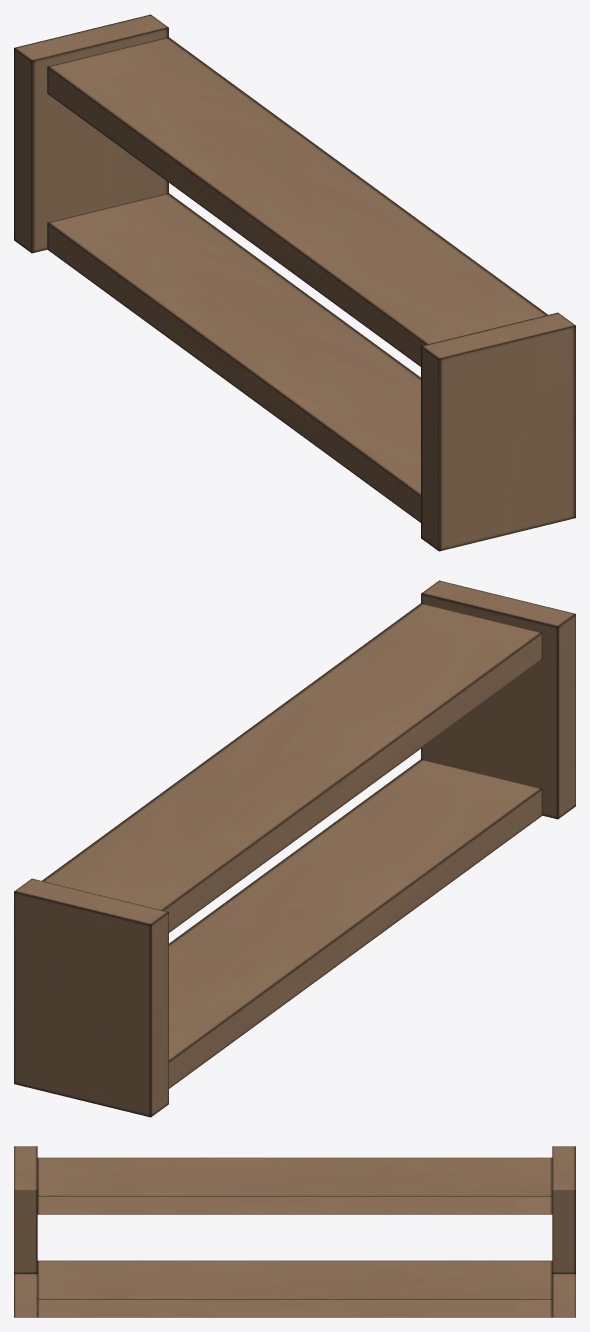
The model's file is shelf2.fbx.
The picture shows the model from 3 angles, top to bottom: view 1: azimuth 30°, elevation 25°; view 2: azimuth 150°, elevation 25°; view 3: azimuth 270°, elevation 25°; orthographic projection. The views are drawn at different scales.
Parts seen in each view (by area): view 1: polySurface1566; view 2: polySurface1566; view 3: polySurface1566.
Boxes of the visible parts, bbox=[...] form: polySurface1566: bbox=[14, 14, 575, 551]; polySurface1566: bbox=[14, 580, 575, 1117]; polySurface1566: bbox=[14, 1146, 575, 1317].
Bounding box in the file's own units: 0.3639 × 0.4888 × 1.96.
